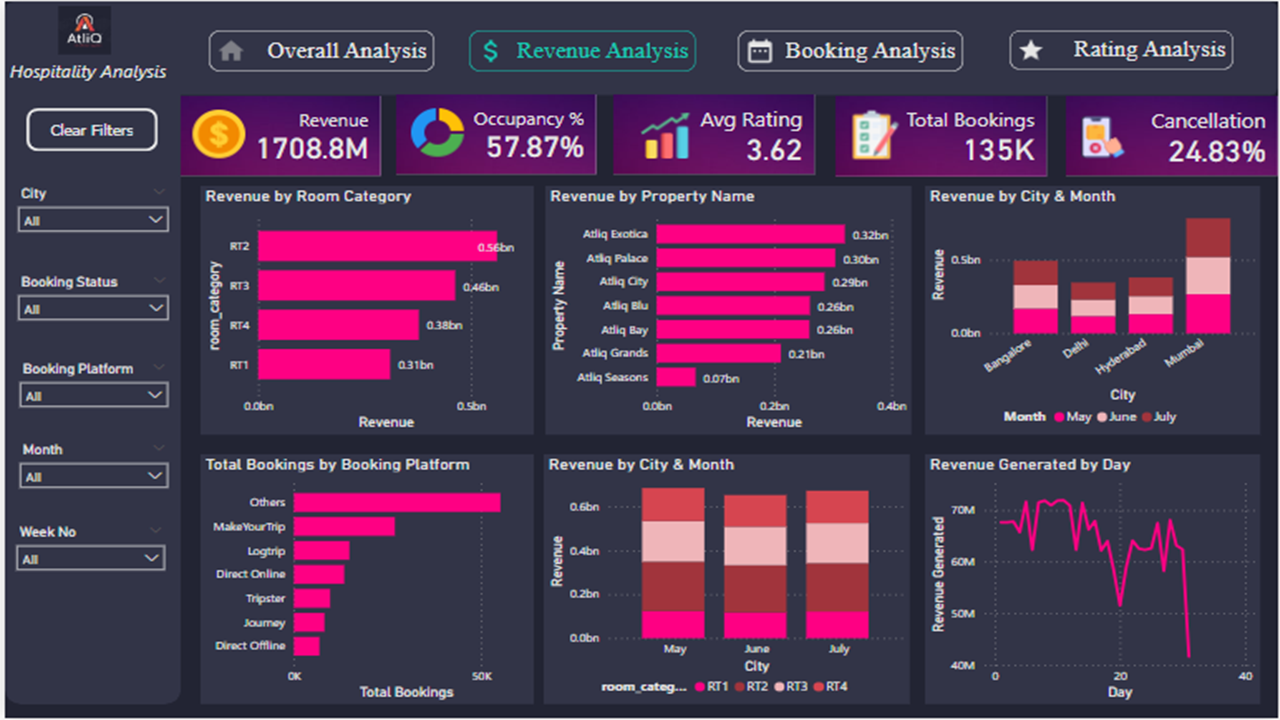

The page's visual inventory and layout, read from the dashboard file:
{"tool":"powerbi","page":{"name":"Revenue Analysis","canvas":[1280,784],"ordinal":1},"visuals":[{"type":"shape","box":[0,0,1280,103.3],"z":0},{"type":"shape","box":[0,18.3,176.7,750],"z":1000},{"type":"actionButton","box":[205,31.7,226.7,45],"z":2000},{"type":"actionButton","box":[466.7,31.7,228.3,45],"z":3000},{"type":"actionButton","box":[736.7,31.7,226.7,45],"z":4000},{"type":"actionButton","box":[1010,31.7,225,43.3],"z":5000},{"type":"image","box":[36.7,0,86.7,63.3],"z":6000},{"type":"textbox","box":[0,58.3,205,45],"z":7000},{"type":"actionButton","box":[21.7,116.7,131.7,46.7],"z":8000},{"type":"cardVisual","fields":{"Data":["fact_bookings.Revenue"]},"box":[177,103,201,87],"z":9000},{"type":"cardVisual","fields":{"Data":["fact_aggregated_bookings.Occupancy%"]},"box":[393.3,102.2,201.1,87.8],"z":10000},{"type":"cardVisual","fields":{"Data":["fact_bookings.AverageRating"]},"box":[611.1,102.2,202.2,87.8],"z":11000},{"type":"cardVisual","fields":{"Data":["fact_bookings.TotalBookings"]},"box":[835.7,102.9,212.9,88.6],"z":12000},{"type":"cardVisual","fields":{"Data":["fact_bookings.Cancellation%"]},"box":[1066.7,103.3,213.3,87.8],"z":13000},{"type":"barChart","title":"Revenue by Room Category","fields":{"Category":["fact_bookings.room_category"],"Y":["fact_bookings.Revenue"]},"box":[196.7,201.7,335,271.7],"z":14000},{"type":"barChart","title":"Revenue by Property Name","fields":{"Category":["dim_hotels.property_name"],"Y":["fact_bookings.Revenue"]},"box":[543.3,201.7,368.3,271.7],"z":15000},{"type":"columnChart","title":"Revenue by City & Month","fields":{"Y":["Sum(fact_bookings.revenue_generated)"],"Series":["dim_date.mmm yy.Variation.Date Hierarchy.Month"],"Category":["dim_hotels.city"]},"box":[925,201.7,336.7,271.7],"z":16000},{"type":"barChart","title":"Total Bookings by Booking Platform","fields":{"Category":["fact_bookings.booking_platform"],"Y":["fact_bookings.Total Bookings"]},"box":[196.7,495,335,273.3],"z":17000},{"type":"columnChart","title":"Revenue by Room Type & Month","fields":{"Y":["Sum(fact_bookings.revenue_generated)"],"Category":["dim_date.date.Variation.Date Hierarchy.Month"],"Series":["dim_rooms.room_category"]},"box":[541.7,495,368.3,273.3],"z":18000},{"type":"lineChart","title":"Revenue Generated by Day","fields":{"Category":["dim_date.date.Variation.Date Hierarchy.Day"],"Y":["Sum(fact_bookings.revenue_generated)"]},"box":[925,495,336.7,273.3],"z":19000},{"type":"slicer","fields":{"Values":["dim_hotels.city"]},"box":[3.1,196.7,171,64],"z":21001},{"type":"slicer","fields":{"Values":["fact_bookings.booking_status"]},"box":[2.9,292.9,171.4,64.3],"z":21002},{"type":"slicer","fields":{"Values":["fact_bookings.booking_platform"]},"box":[5.7,388.6,168.6,64.3],"z":21003},{"type":"slicer","fields":{"Values":["dim_date.date.Variation.Date Hierarchy.Month"]},"box":[5.7,477.1,168.6,64.3],"z":21004},{"type":"slicer","fields":{"Values":["dim_date.week no"]},"box":[1.4,567.1,168.6,64.3],"z":21005}]}

Visuals, with their boxes on the page's 1280x784 design canvas (x1, y1, x2, y2). These are canvas units, not pixel positions in the 1280x720 screenshot, which may show the page scaled, cropped or inside an application window:
shape: bbox(0, 0, 1280, 103)
shape: bbox(0, 18, 177, 768)
actionButton: bbox(205, 32, 432, 77)
actionButton: bbox(467, 32, 695, 77)
actionButton: bbox(737, 32, 963, 77)
actionButton: bbox(1010, 32, 1235, 75)
image: bbox(37, 0, 123, 63)
textbox: bbox(0, 58, 205, 103)
actionButton: bbox(22, 117, 153, 163)
cardVisual - fact_bookings.Revenue: bbox(177, 103, 378, 190)
cardVisual - fact_aggregated_bookings.Occupancy%: bbox(393, 102, 594, 190)
cardVisual - fact_bookings.AverageRating: bbox(611, 102, 813, 190)
cardVisual - fact_bookings.TotalBookings: bbox(836, 103, 1049, 192)
cardVisual - fact_bookings.Cancellation%: bbox(1067, 103, 1280, 191)
"Revenue by Room Category" barChart: bbox(197, 202, 532, 473)
"Revenue by Property Name" barChart: bbox(543, 202, 912, 473)
"Revenue by City & Month" columnChart: bbox(925, 202, 1262, 473)
"Total Bookings by Booking Platform" barChart: bbox(197, 495, 532, 768)
"Revenue by Room Type & Month" columnChart: bbox(542, 495, 910, 768)
"Revenue Generated by Day" lineChart: bbox(925, 495, 1262, 768)
slicer - dim_hotels.city: bbox(3, 197, 174, 261)
slicer - fact_bookings.booking_status: bbox(3, 293, 174, 357)
slicer - fact_bookings.booking_platform: bbox(6, 389, 174, 453)
slicer - dim_date.date.Variation.Date Hierarchy.Month: bbox(6, 477, 174, 541)
slicer - dim_date.week no: bbox(1, 567, 170, 631)
